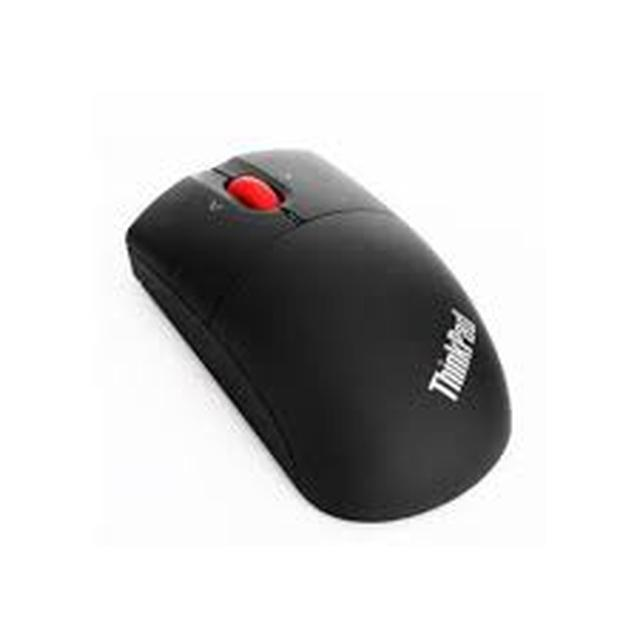mouse: (135, 127, 560, 574)
